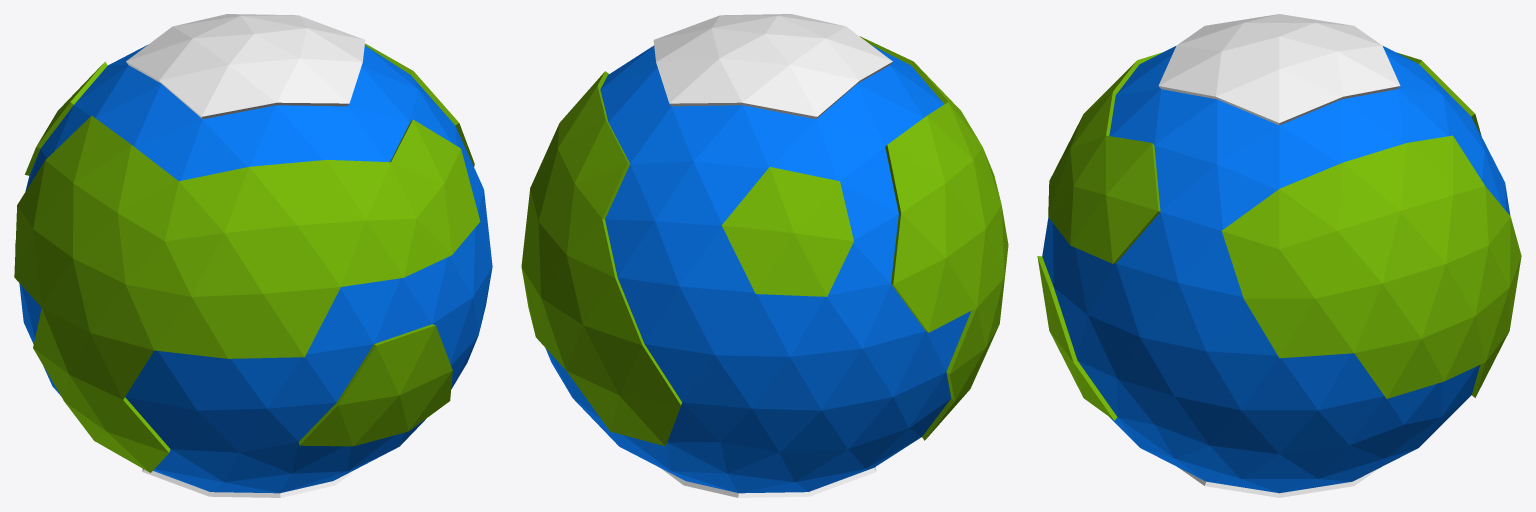
File: earth.glb
3 renders of one model, left to right at view 1: azimuth 30°, elevation 25°; view 2: azimuth 150°, elevation 25°; view 3: azimuth 270°, elevation 25°, orthographic.
Visible parts, largest first — view 1: Icosphere; view 2: Icosphere; view 3: Icosphere.
Boxes of the visible parts, x1,y1,x2,y2 form: Icosphere: (14, 14, 492, 497); Icosphere: (521, 14, 1008, 497); Icosphere: (1037, 14, 1521, 497).
Size of the model in its own units: 1.27 by 1.27 by 1.27.
